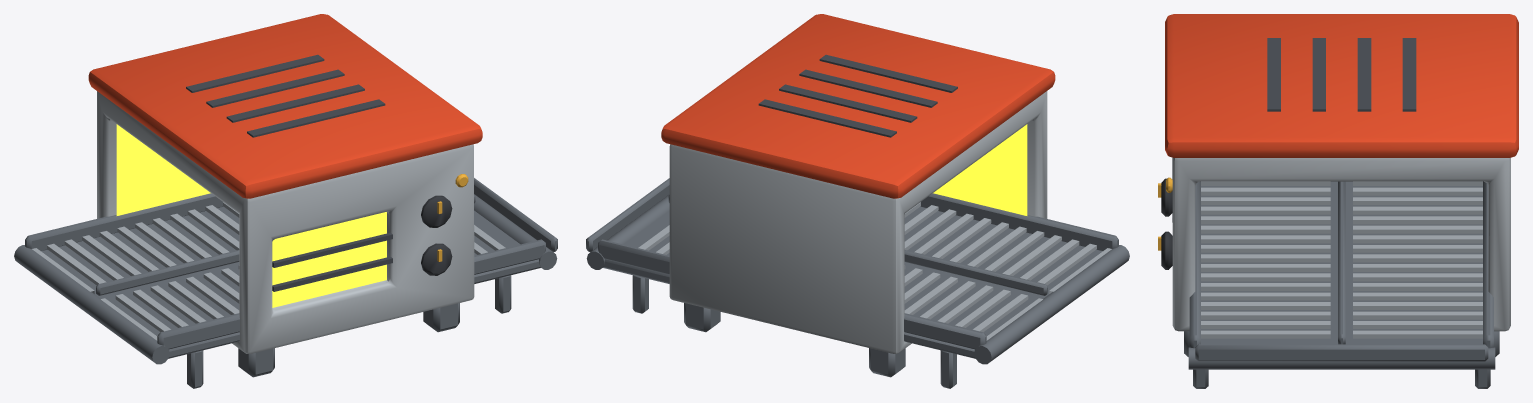
File: Kitchen_Toaster.fbx
The picture shows the model from 3 angles, left to right: view 1: azimuth 30°, elevation 25°; view 2: azimuth 150°, elevation 25°; view 3: azimuth 270°, elevation 25°; orthographic projection. The views are drawn at different scales.
Parts seen in each view (by area): view 1: Crown, Body, Frame, Heat, Belt, Grille, Knobs; view 2: Body, Crown, Frame, Belt, Grille, Heat; view 3: Crown, Belt, Frame, Body, Grille, Knobs.
Part boxes in pixels (x1,y1,x2,y2): Crown: [88, 14, 482, 198]; Body: [97, 91, 474, 353]; Frame: [14, 178, 557, 388]; Heat: [116, 124, 386, 307]; Belt: [32, 202, 505, 340]; Grille: [186, 54, 392, 291]; Knobs: [421, 195, 452, 275]; Body: [669, 91, 1047, 353]; Crown: [661, 14, 1055, 198]; Frame: [586, 178, 1129, 388]; Belt: [638, 202, 1111, 340]; Grille: [758, 54, 957, 137]; Heat: [933, 124, 1027, 215]; Crown: [1165, 14, 1518, 157]; Belt: [1201, 181, 1482, 338]; Frame: [1184, 181, 1499, 388]; Body: [1172, 157, 1510, 331]; Grille: [1172, 38, 1416, 222]; Knobs: [1161, 178, 1172, 269].
Size of the model in its own units: 466 by 225 by 320.
